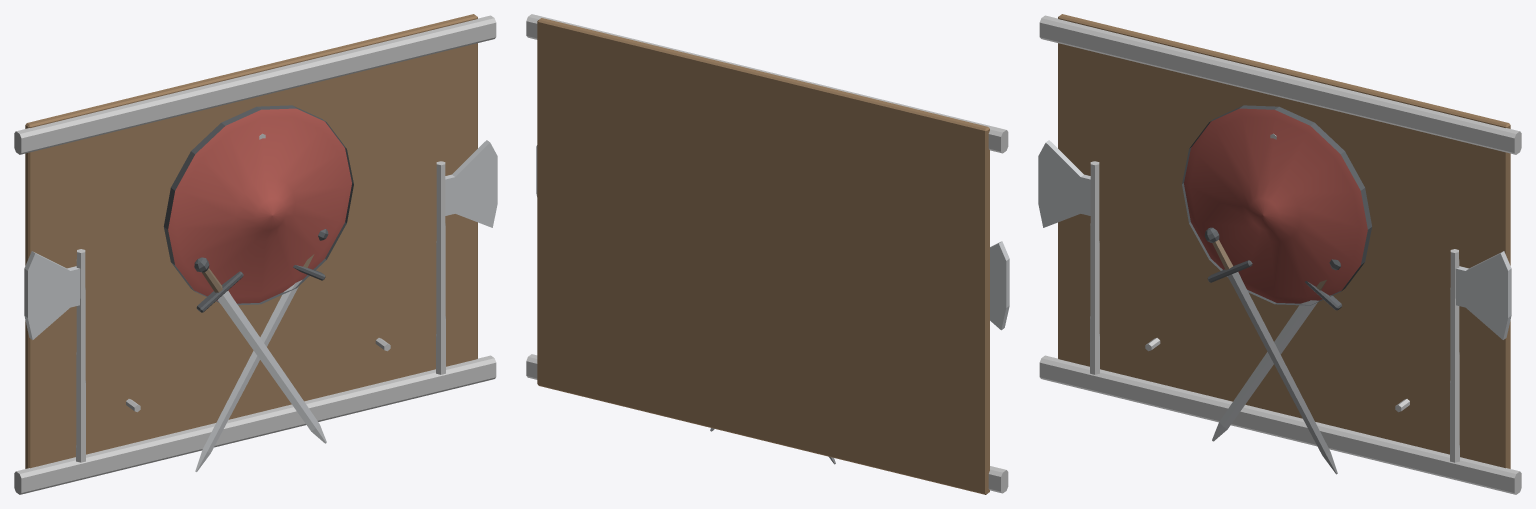
Rendered from furn_weapon_board.glb.
3 renders of one model, left to right at view 1: azimuth 30°, elevation 25°; view 2: azimuth 150°, elevation 25°; view 3: azimuth 330°, elevation 25°, orthographic.
Visible parts, largest first — view 1: furn_weapon_board; view 2: furn_weapon_board; view 3: furn_weapon_board.
Boxes of the visible parts, bbox=[...] form: furn_weapon_board: bbox=[14, 14, 497, 494]; furn_weapon_board: bbox=[526, 14, 1009, 494]; furn_weapon_board: bbox=[1038, 14, 1521, 494].
Bounding box in the file's own units: 1.9 × 1.46 × 0.16.
